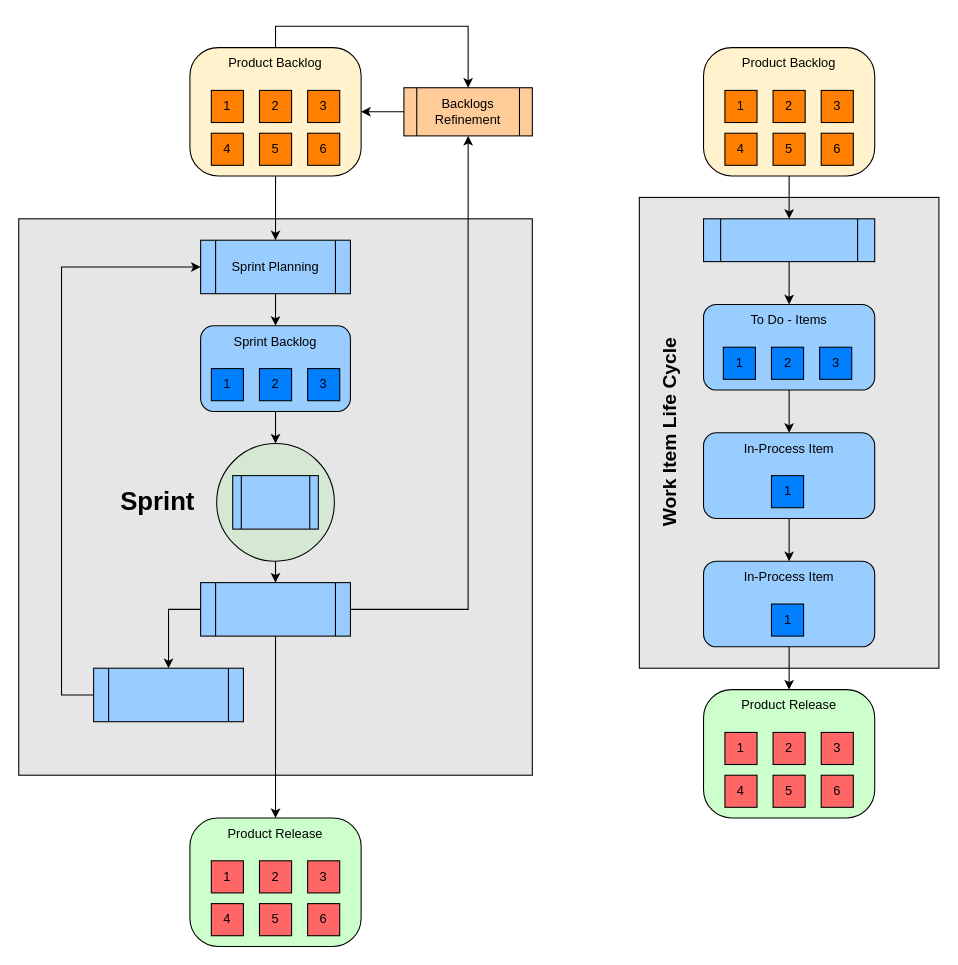
Image size: 958x965. Some labels were removed from this diagram. Each missing label, with the box of its shape:
Daily Scrum: (232, 475, 318, 529)
Prioritization: (702, 218, 875, 262)
Sprint Retrospective: (93, 667, 243, 722)
Sprint Review: (200, 582, 350, 636)
